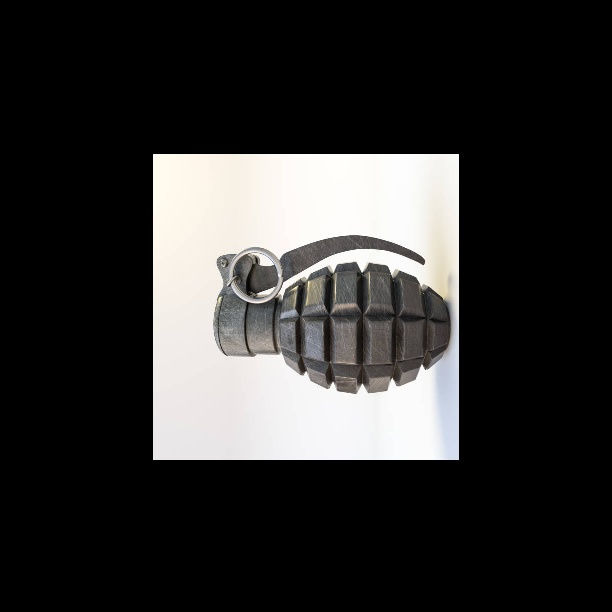e1: (202, 230, 451, 400)
